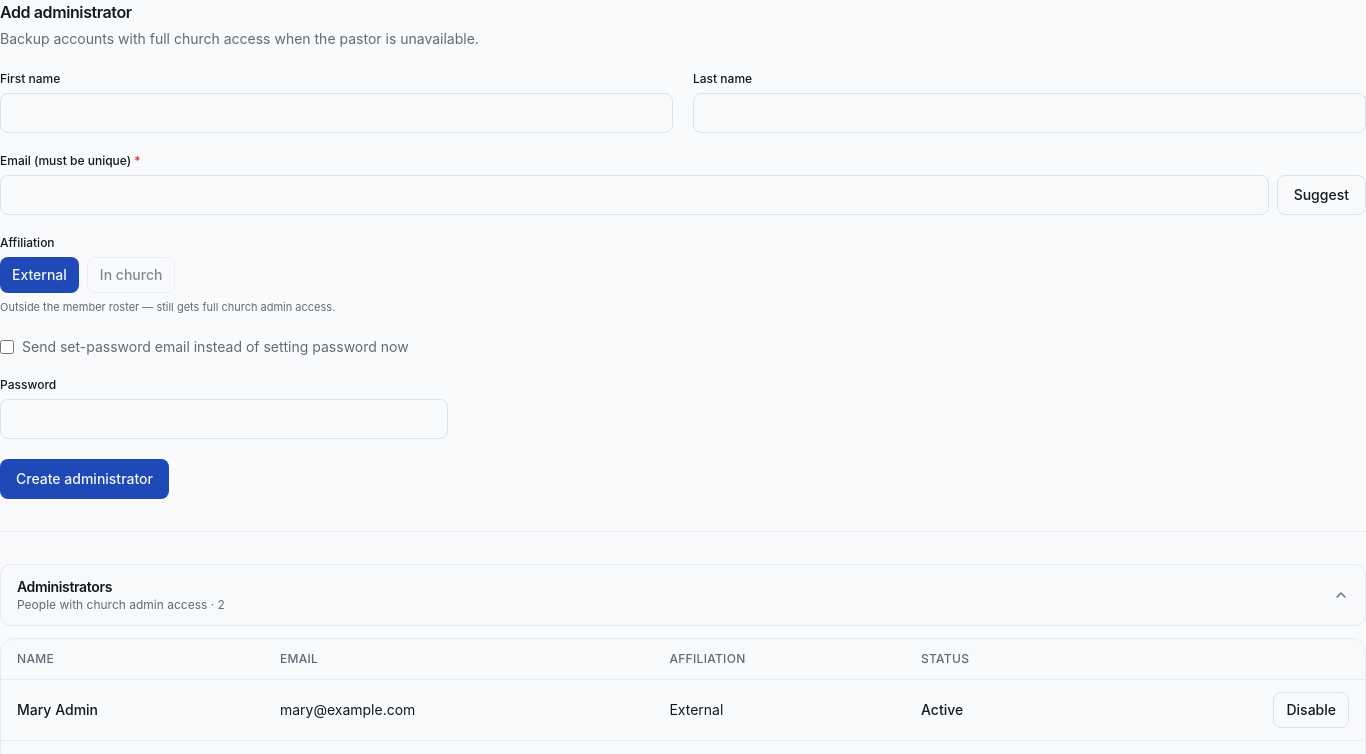
SettingsAdministratorsPage › collapses the administrators table
The width and height of the screenshot is (1366, 754).
Check: the text "Mary Admin" is shown, box [1,679,264,740]
Click the button "Administrators People with church admin access · 2". click: (64, 586)
box: [0,564,1365,626]
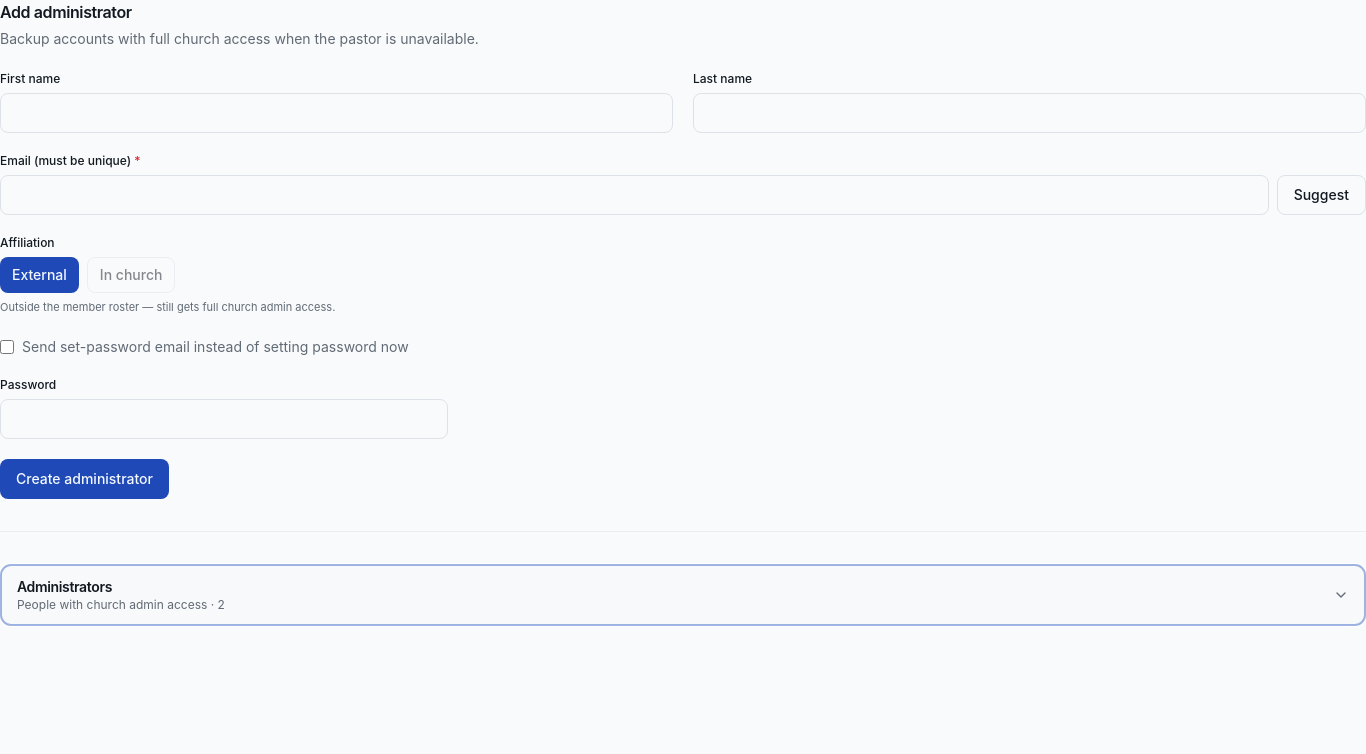
Check: the text "Mary Admin" is gone
